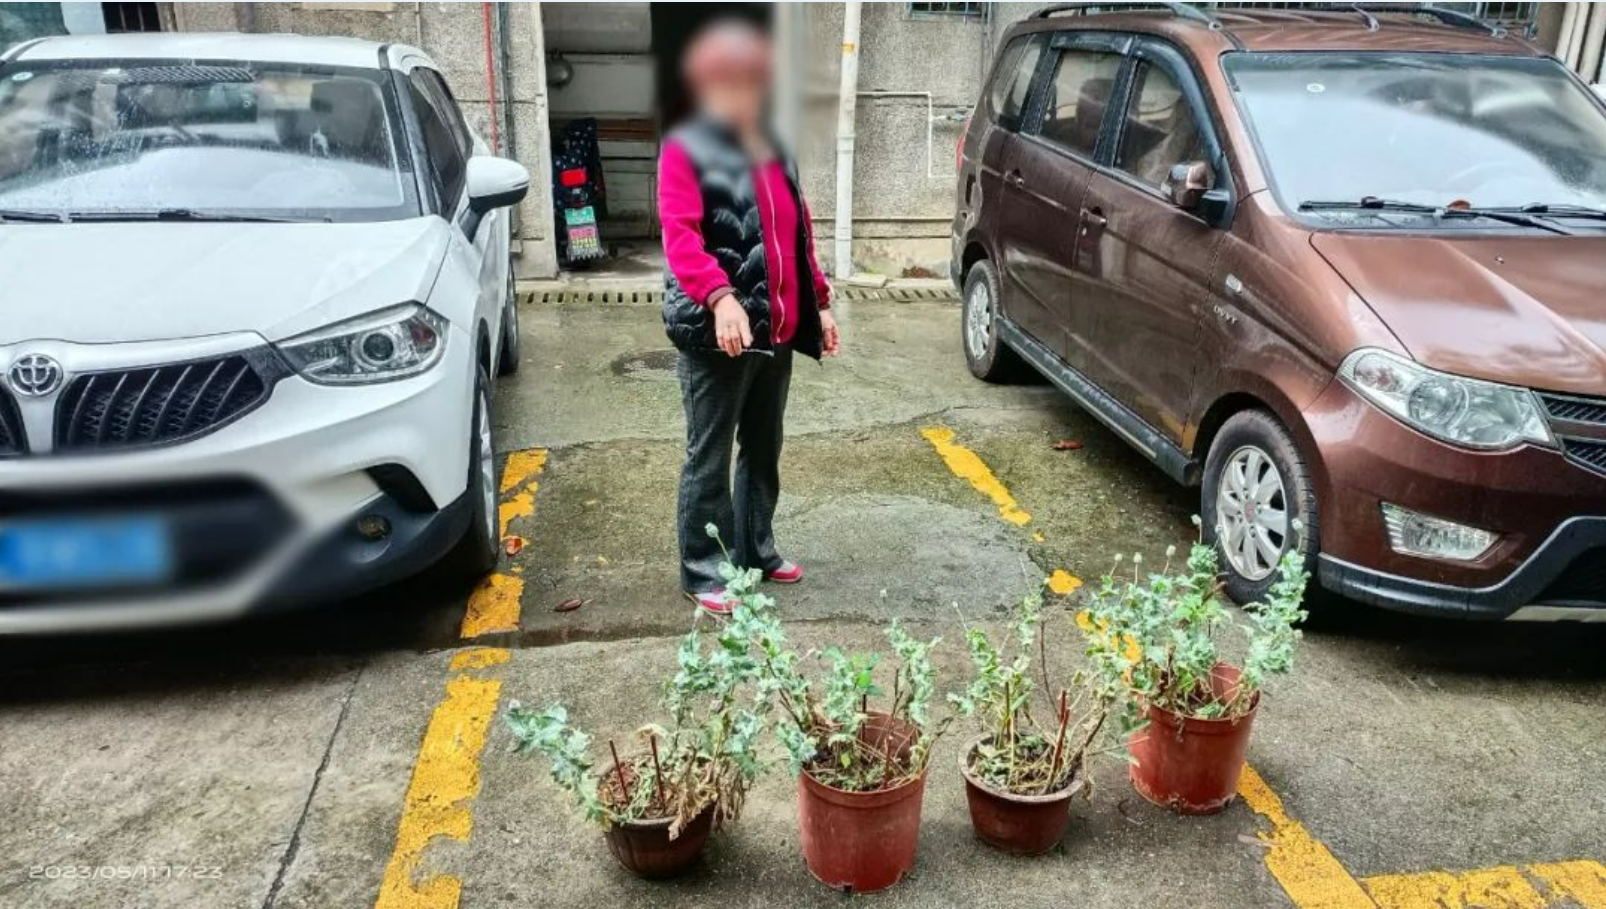Poppy: (528, 536, 1317, 864)
